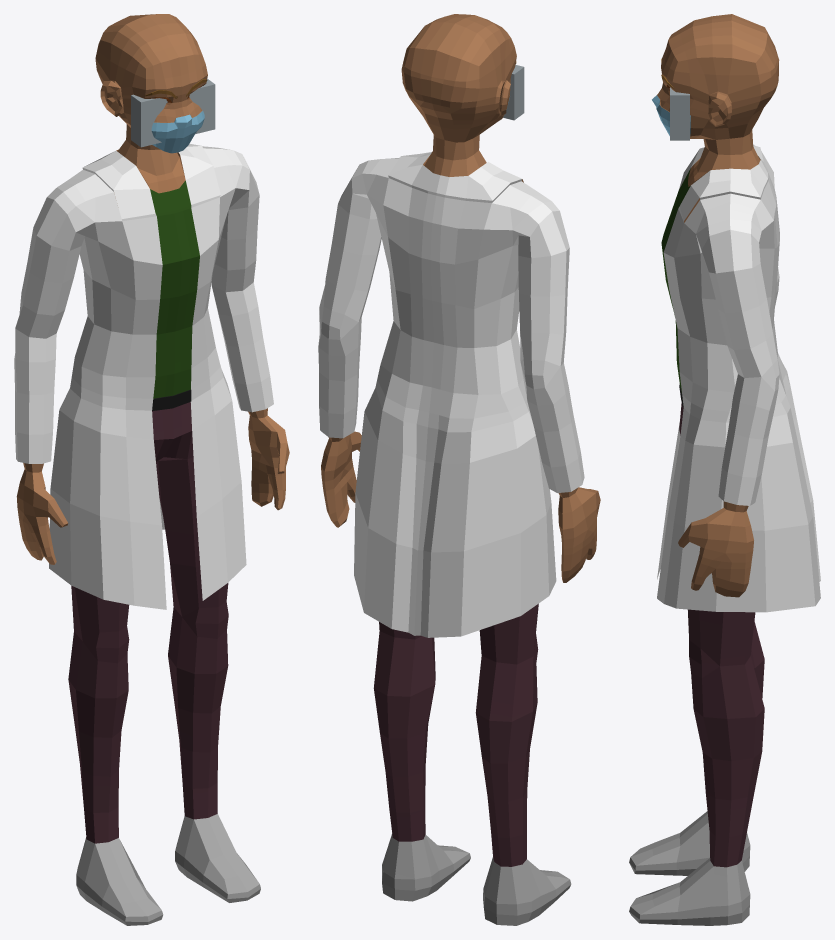
Rendered from ScientistMale_Stand_Mask.fbx.
3 renders of one model, left to right at view 1: azimuth 30°, elevation 25°; view 2: azimuth 150°, elevation 25°; view 3: azimuth 270°, elevation 25°, orthographic. The views are drawn at different scales.
Parts seen in each view (by area): view 1: ScientistMale_Stand_Mask; view 2: ScientistMale_Stand_Mask; view 3: ScientistMale_Stand_Mask.
Boxes of the visible parts, x1,y1,x2,y2 form: ScientistMale_Stand_Mask: (14, 14, 289, 925); ScientistMale_Stand_Mask: (318, 14, 600, 925); ScientistMale_Stand_Mask: (629, 14, 820, 925).
Bounding box in the file's own units: 0.3245 × 1.05 × 0.2102.
